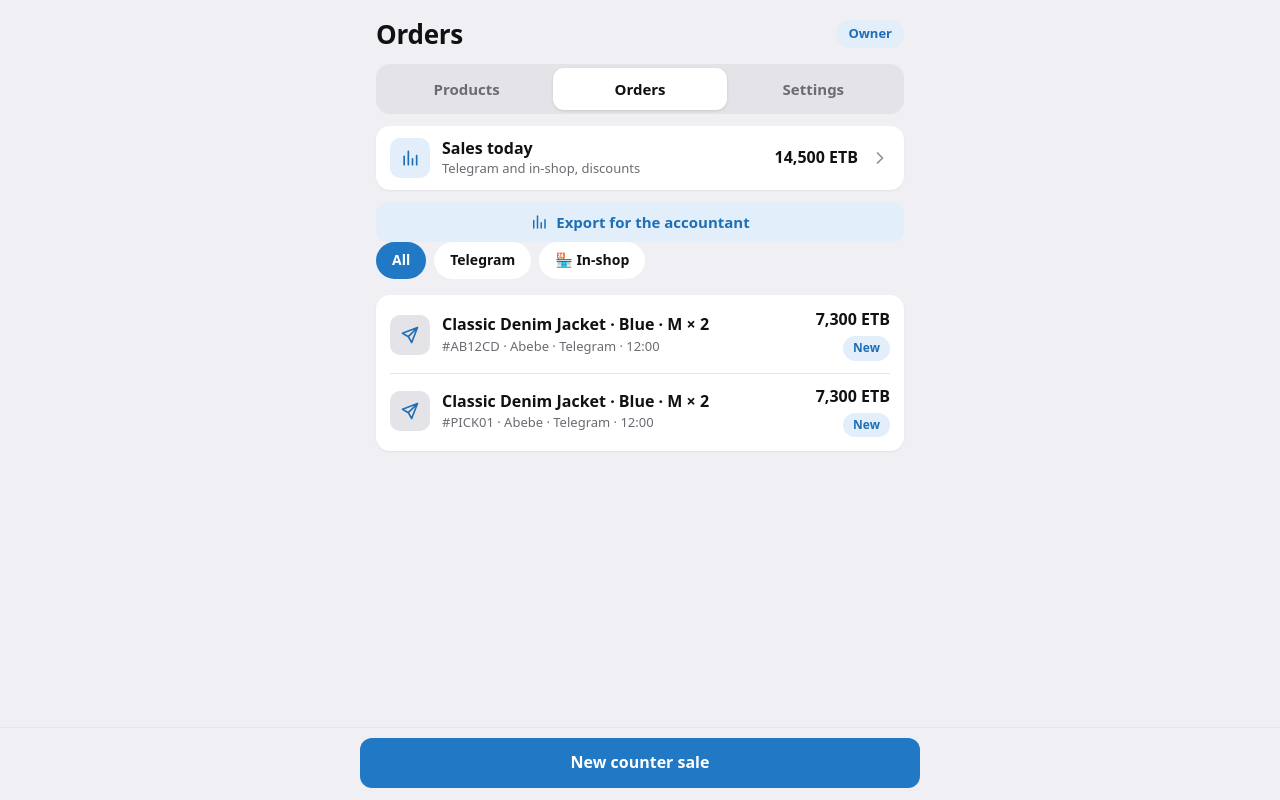
Order stages and the export (Phase 15) › says how each kind of unpaid order is handled in the staff group
Click the text "#AB12CD · Abebe · Telegram · 12:00" at (551, 346), box [442,337,660,355]
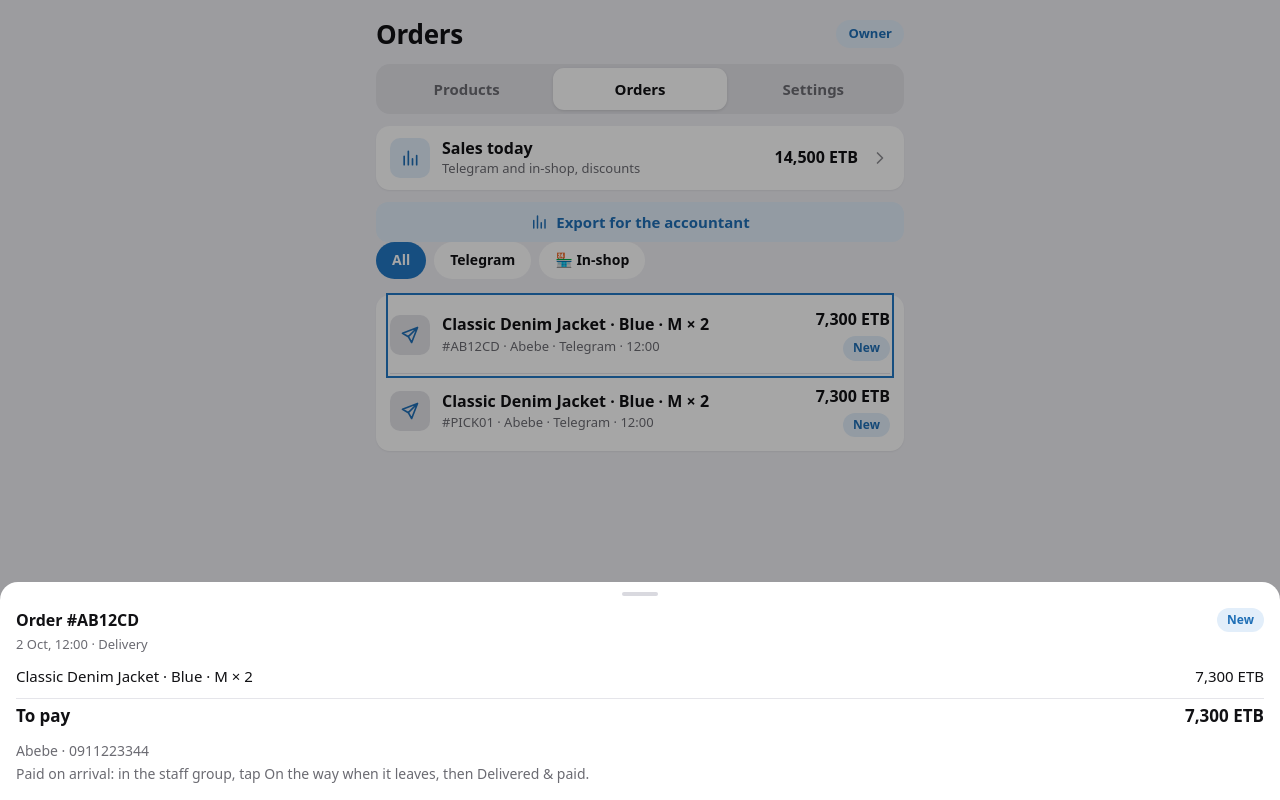
Check: the text "tap On the way when it leaves" is shown, box [16,764,589,783]
Press Escape
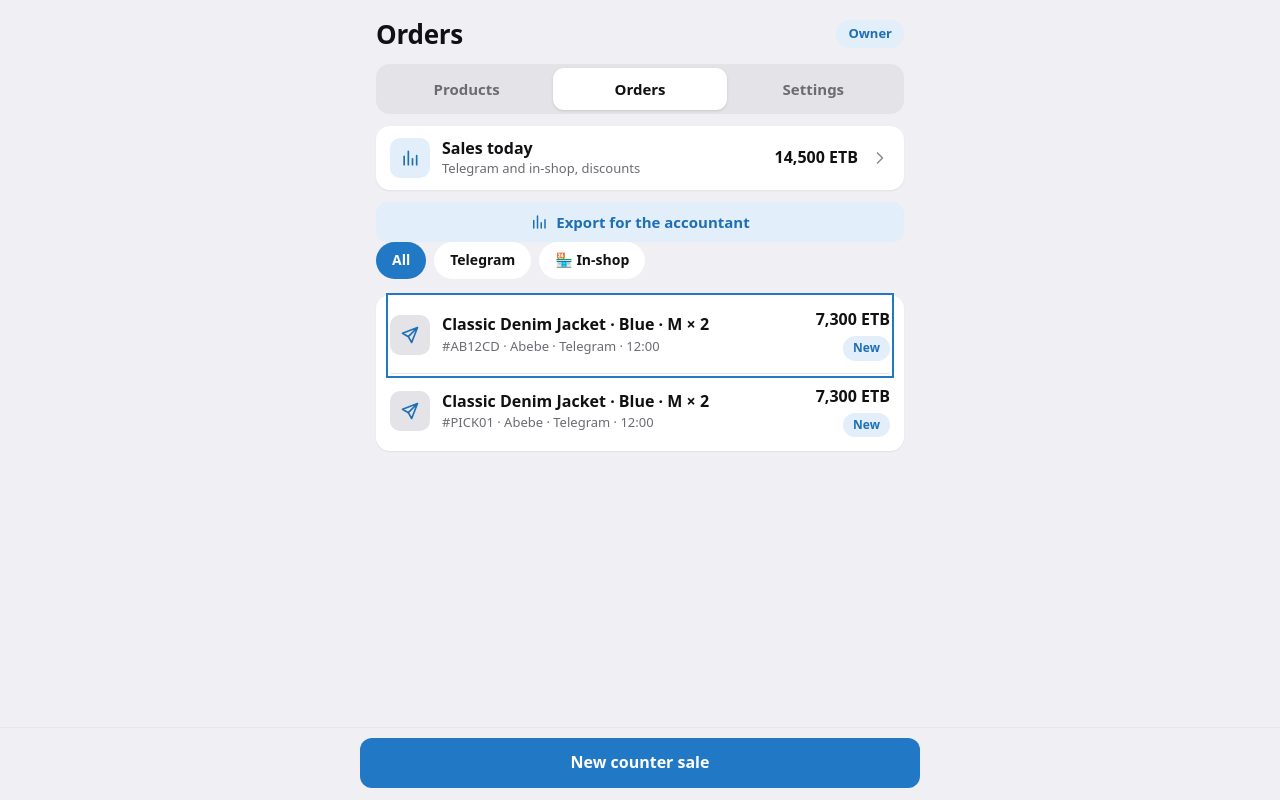
Click the text "#PICK01 · Abebe · Telegram · 12:00" at (548, 422), box [442,414,654,432]
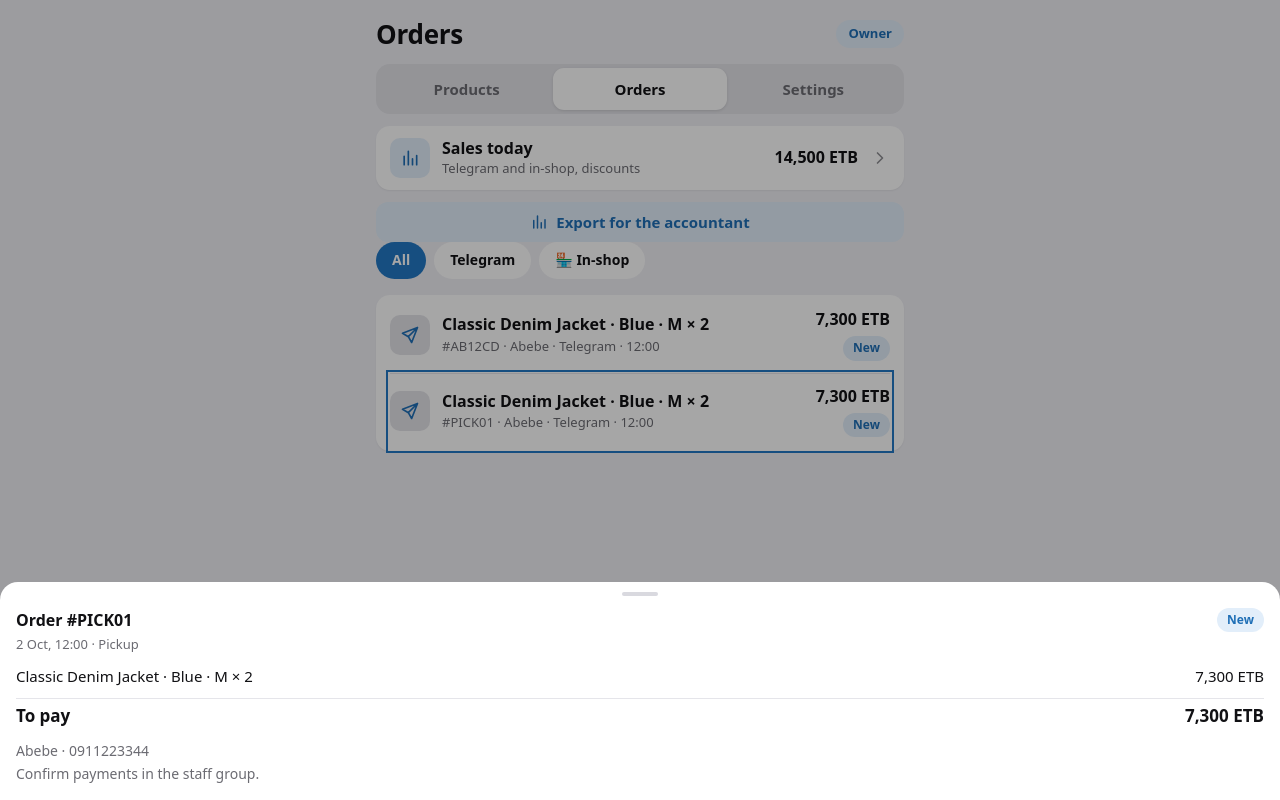
Check: the text "Confirm payments in the staff group." is shown, box [16,764,259,783]
